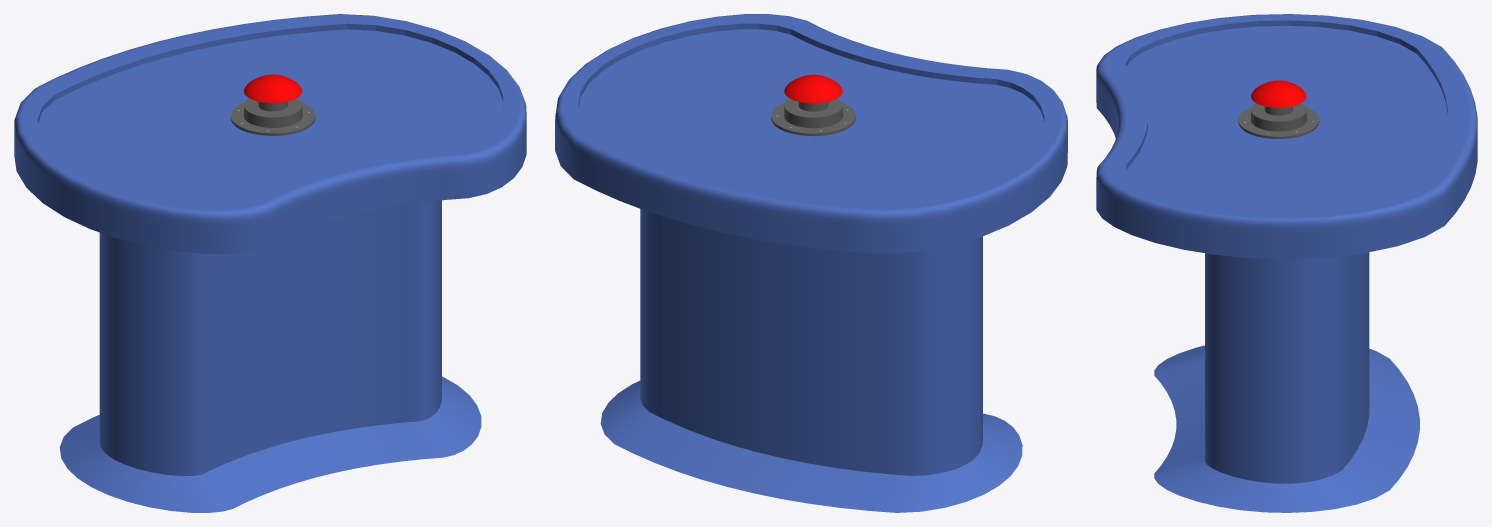
The picture shows the model from 3 angles, left to right: view 1: azimuth 30°, elevation 25°; view 2: azimuth 150°, elevation 25°; view 3: azimuth 270°, elevation 25°; orthographic projection. The views are drawn at different scales.
Visible parts, largest first — view 1: Cylinder032, Cylinder034, Shape062, Cylinder033; view 2: Cylinder032, Cylinder034, Shape062, Cylinder033; view 3: Cylinder032, Cylinder034, Shape062, Cylinder033.
Part boxes in pixels (x1,y1,x2,y2): Cylinder032: (14, 14, 526, 512); Cylinder034: (244, 98, 302, 127); Shape062: (244, 74, 302, 103); Cylinder033: (230, 102, 315, 135); Cylinder032: (555, 14, 1067, 512); Cylinder034: (784, 98, 842, 128); Shape062: (784, 74, 842, 103); Cylinder033: (771, 102, 855, 136); Cylinder032: (1096, 14, 1477, 512); Cylinder034: (1251, 103, 1306, 131); Shape062: (1251, 80, 1306, 107); Cylinder033: (1238, 107, 1319, 138).
Bounding box in the file's own units: 290 × 221 × 224.
